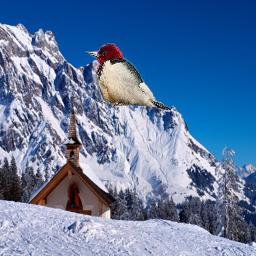Woodpecker: (85, 44, 171, 111)
